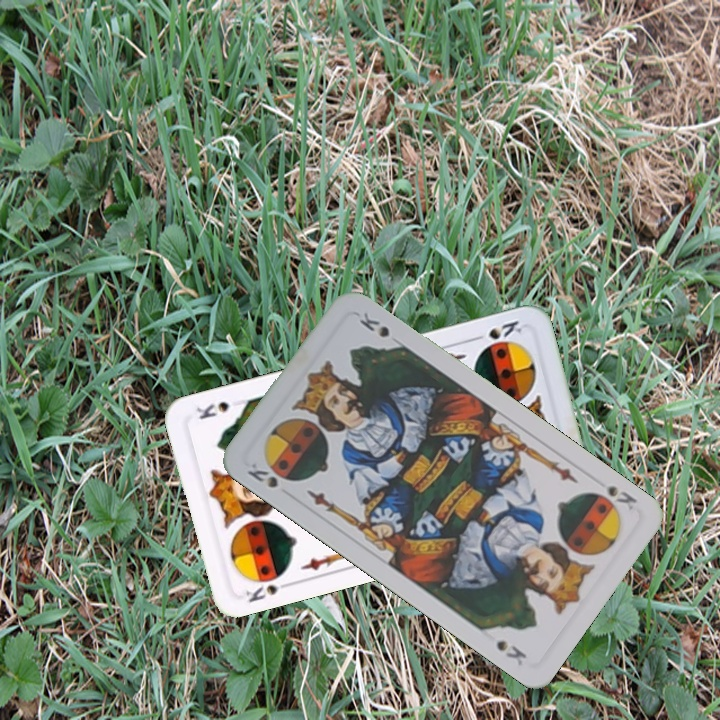SK: (468, 316, 525, 344), (241, 577, 295, 605), (243, 459, 281, 491), (602, 481, 640, 513)
